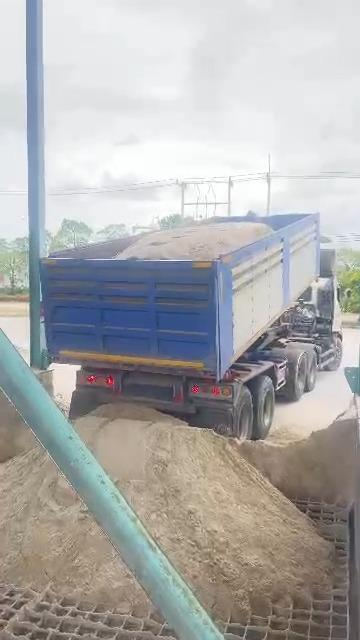sand: (77, 406, 331, 622), (0, 447, 147, 612), (241, 411, 356, 504), (117, 222, 271, 259), (0, 389, 35, 462)
